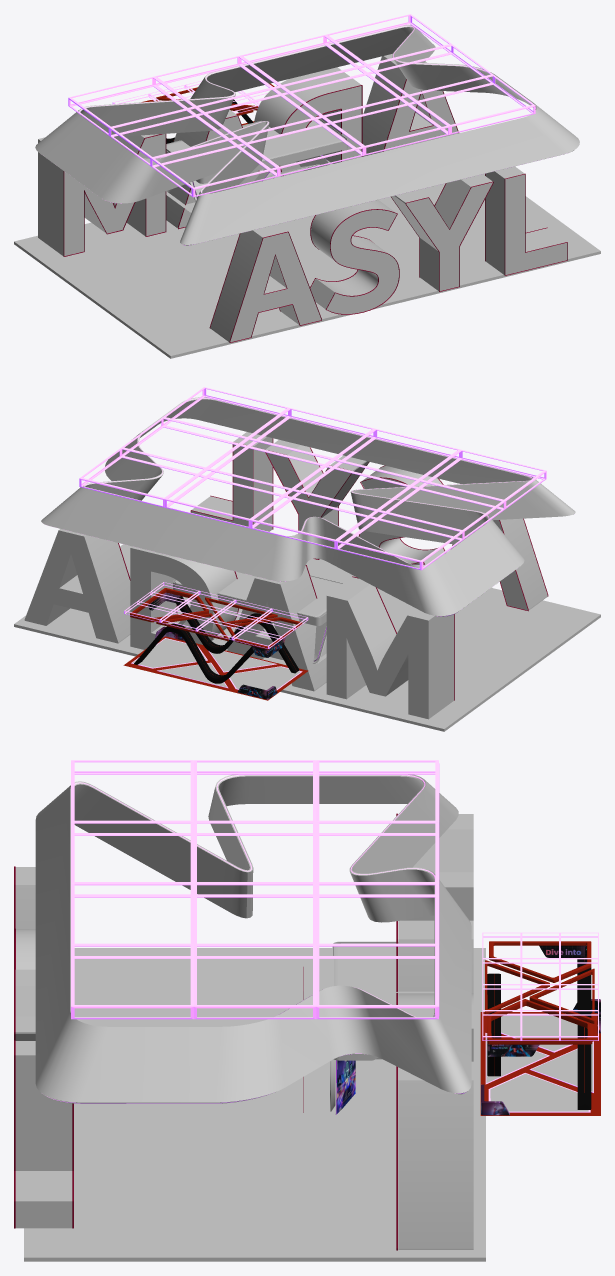
File: Pavilion_Asyl_Adam3.fbx
The picture shows the model from 3 angles, top to bottom: view 1: azimuth 30°, elevation 25°; view 2: azimuth 150°, elevation 25°; view 3: azimuth 270°, elevation 25°; orthographic projection. The views are drawn at different scales.
Parts seen in each view (by area): view 1: Куб.054, Куб.053, Text, Text.002, Куб.055, Text.001, Куб.050, Text.005, Куб.003, Text.003, Куб.060; view 2: Куб.054, Text.002, Куб.053, Куб.055, Text, Cube.001, Куб.060, Куб.059, Куб.050, Cube.009, Cube, Text.003 (+5 smaller); view 3: Куб.053, Куб.054, Text.002, Куб.055, Text, Cube.001, Куб.050, Куб.060, Куб.059, Куб, Cube.009, Cube.005 (+6 smaller).
Boxes of the visible parts, x1,y1,x2,y2 form: Куб.054: (35,25,579,245); Куб.053: (14,174,600,358); Text: (210,166,566,342); Text.002: (38,53,458,256); Куб.055: (68,14,535,197); Text.001: (229,173,567,342); Куб.050: (166,119,345,161); Text.005: (63,79,458,256); Куб.003: (166,118,347,183); Text.003: (209,173,547,328); Куб.060: (112,80,267,113); Куб.054: (41,397,575,616); Text.002: (24,529,454,719); Куб.053: (14,544,600,731); Куб.055: (79,387,546,570); Text: (191,432,547,610); Cube.001: (131,638,302,689); Куб.060: (124,582,308,648); Куб.059: (123,636,308,700); Куб.050: (175,571,341,617); Cube.009: (134,623,253,683); Cube: (175,596,299,673); Text.003: (190,444,528,611); Куб.053: (24,948,485,1261); Куб.054: (35,774,471,1103); Text.002: (398,814,473,1249); Куб.055: (71,760,439,1019); Text: (15,867,72,1228); Cube.001: (485,1013,593,1112); Куб.050: (334,943,434,1059); Куб.060: (482,932,598,1040); Куб.059: (480,1012,600,1115); Куб: (334,1059,398,1115); Cube.009: (577,957,591,1109); Cube.005: (487,999,592,1044).
Size of the model in its own units: 36186 by 11975 by 29007.
